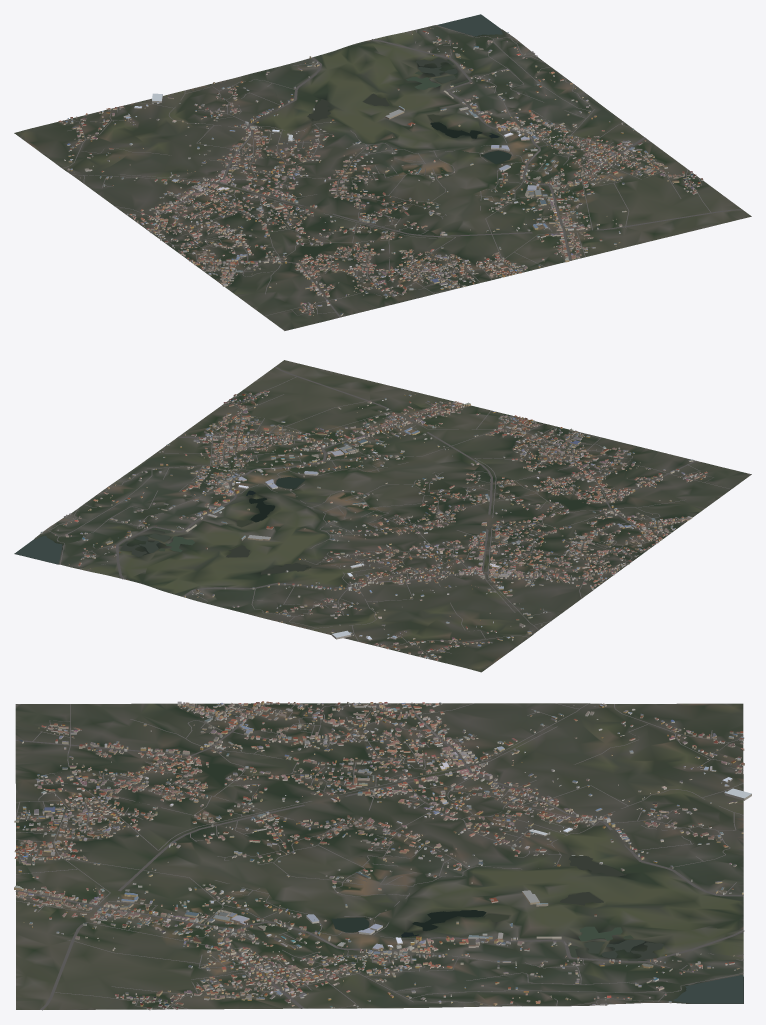
The picture shows the model from 3 angles, top to bottom: view 1: azimuth 30°, elevation 25°; view 2: azimuth 150°, elevation 25°; view 3: azimuth 270°, elevation 25°; orthographic projection. The views are drawn at different scales.
Visible parts, largest first — view 1: ground, buildings, roads, water; view 2: ground, buildings, roads, water; view 3: ground, buildings, roads, water.
Boxes of the visible parts, x1=… form: ground: x1=14, y1=25, x2=751, y2=330; buildings: x1=58, y1=27, x2=703, y2=316; roads: x1=62, y1=25, x2=742, y2=330; water: x1=307, y1=14, x2=511, y2=164; ground: x1=15, y1=360, x2=751, y2=672; buildings: x1=40, y1=390, x2=707, y2=660; roads: x1=48, y1=366, x2=750, y2=659; water: x1=14, y1=477, x2=310, y2=574; ground: x1=15, y1=703, x2=743, y2=1009; buildings: x1=14, y1=701, x2=751, y2=1010; roads: x1=15, y1=703, x2=744, y2=1010; water: x1=331, y1=855, x2=743, y2=1003.
Bounding box in the file's own units: 2807 × 41.31 × 2843.
